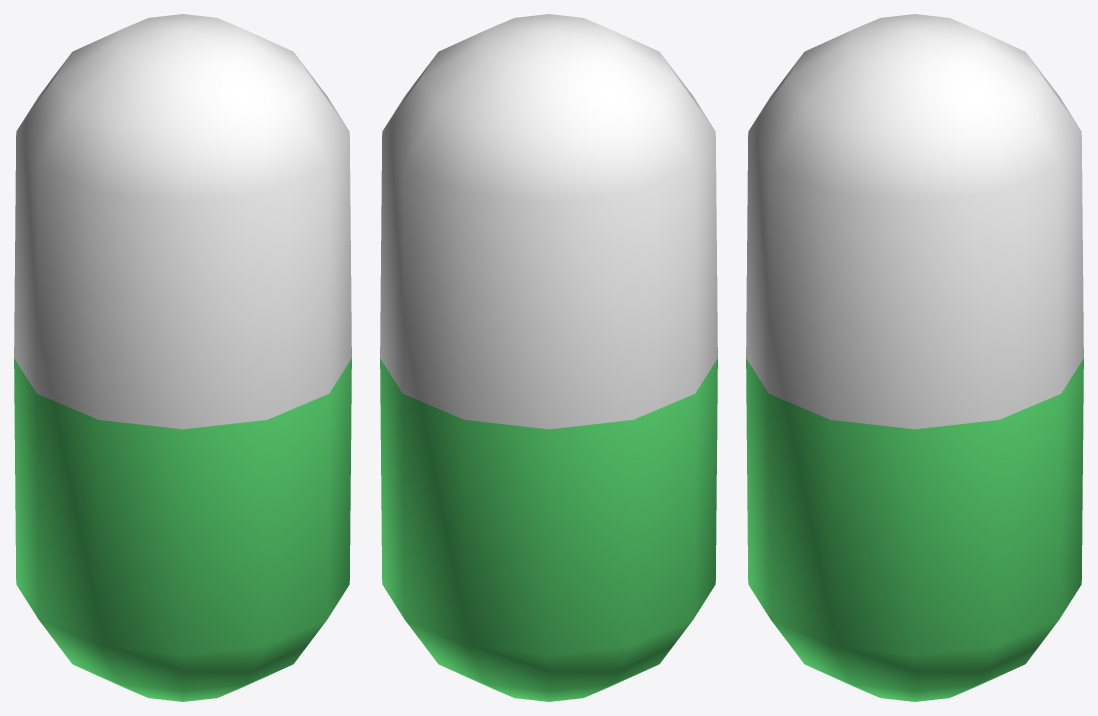
Rendered from jouzai4.fbx.
3 renders of one model, left to right at view 1: azimuth 30°, elevation 25°; view 2: azimuth 150°, elevation 25°; view 3: azimuth 270°, elevation 25°, orthographic.
Parts seen in each view (by area): view 1: jouzai4; view 2: jouzai4; view 3: jouzai4.
Boxes of the visible parts, x1=… form: jouzai4: x1=14, y1=14, x2=351, y2=701; jouzai4: x1=380, y1=14, x2=717, y2=701; jouzai4: x1=746, y1=14, x2=1083, y2=701.
Bounding box in the file's own units: 1.87 × 4 × 1.87.
